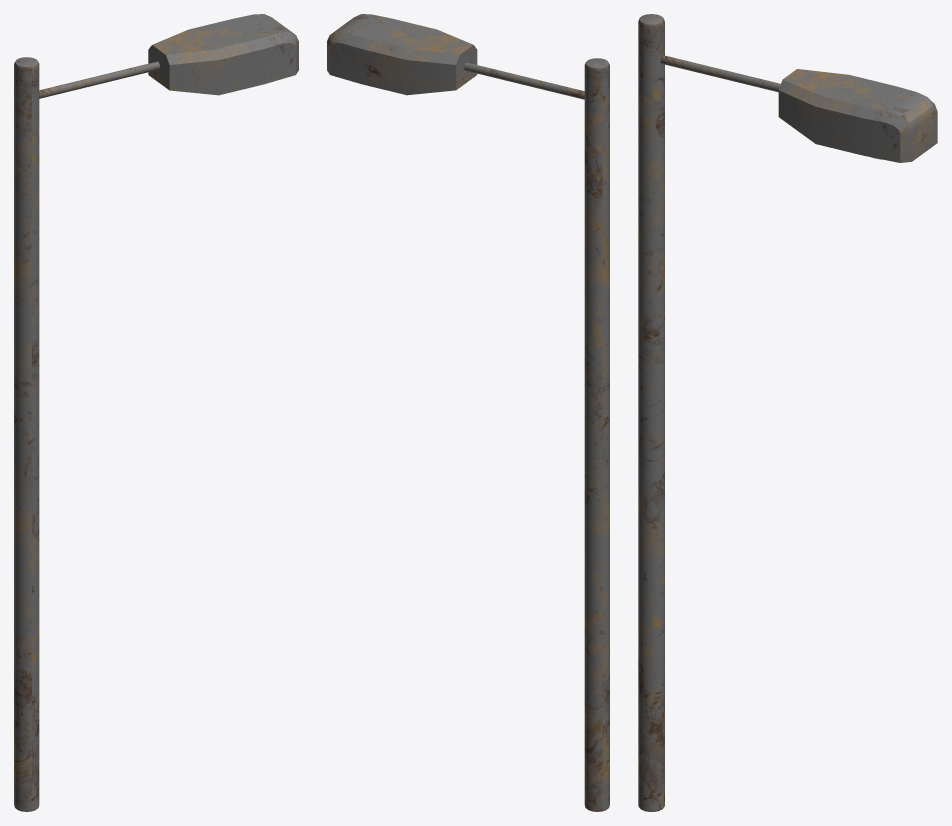
The model's file is tall_lampost.fbx.
3 views of the same model, side by side, from view 1: azimuth 30°, elevation 25°; view 2: azimuth 150°, elevation 25°; view 3: azimuth 330°, elevation 25° (orthographic). The views are drawn at different scales.
Parts seen in each view (by area): view 1: pCylinder13, pCube14, pCylinder14; view 2: pCylinder13, pCube14, pCylinder14; view 3: pCylinder13, pCube14, pCylinder14.
Part boxes in pixels (x1=…): pCylinder13: x1=14, y1=57, x2=39, y2=811; pCube14: x1=148, y1=14, x2=298, y2=95; pCylinder14: x1=39, y1=61, x2=159, y2=98; pCylinder13: x1=584, y1=58, x2=609, y2=811; pCube14: x1=327, y1=14, x2=477, y2=95; pCylinder14: x1=464, y1=62, x2=584, y2=99; pCylinder13: x1=638, y1=14, x2=664, y2=811; pCube14: x1=778, y1=69, x2=937, y2=162; pCylinder14: x1=660, y1=55, x2=780, y2=92.
Size of the model in its own units: 1.57 by 4.15 by 0.3582.
